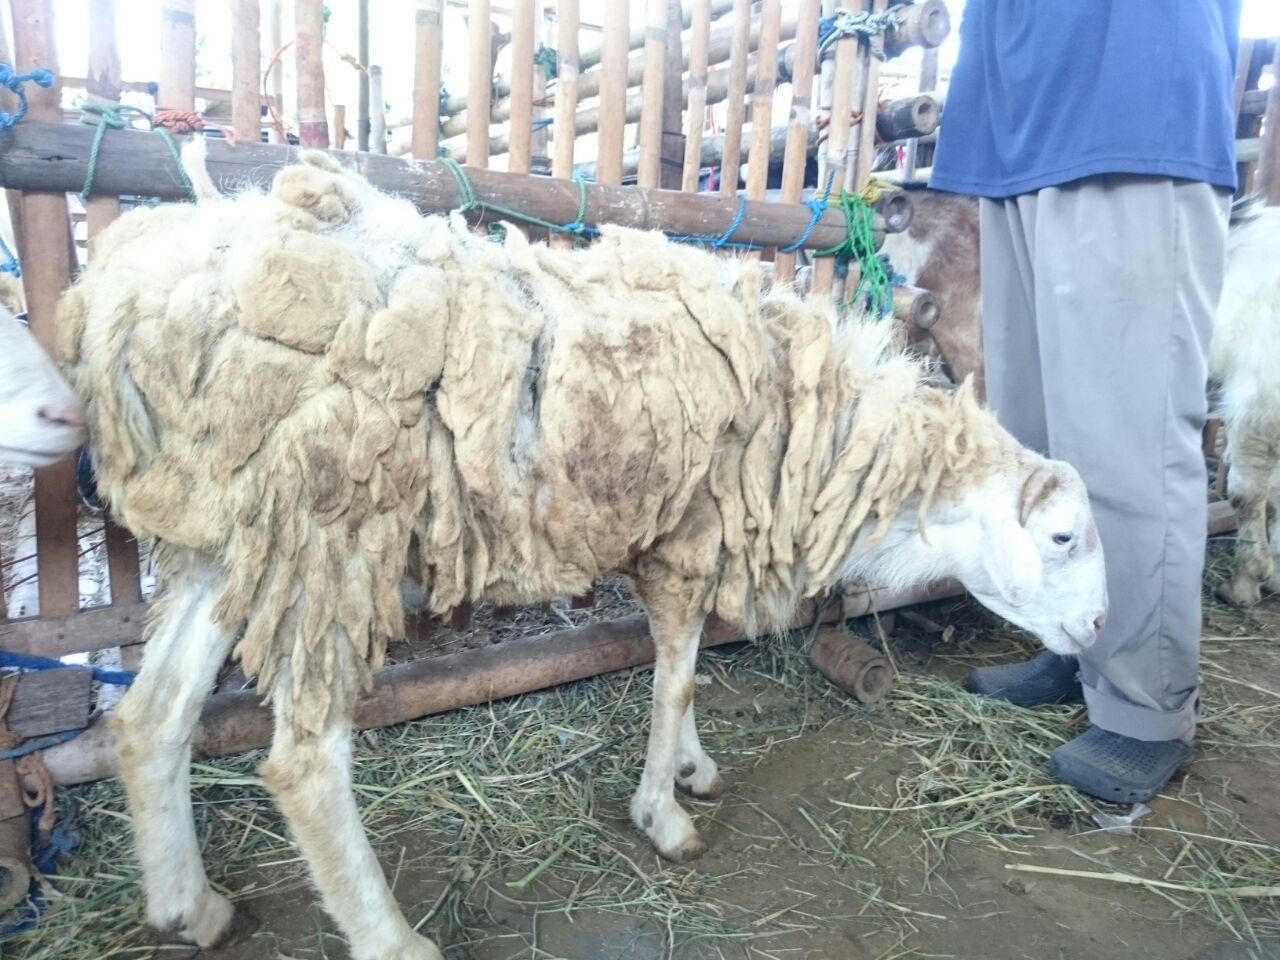Sheep: (851, 329, 1143, 679)
